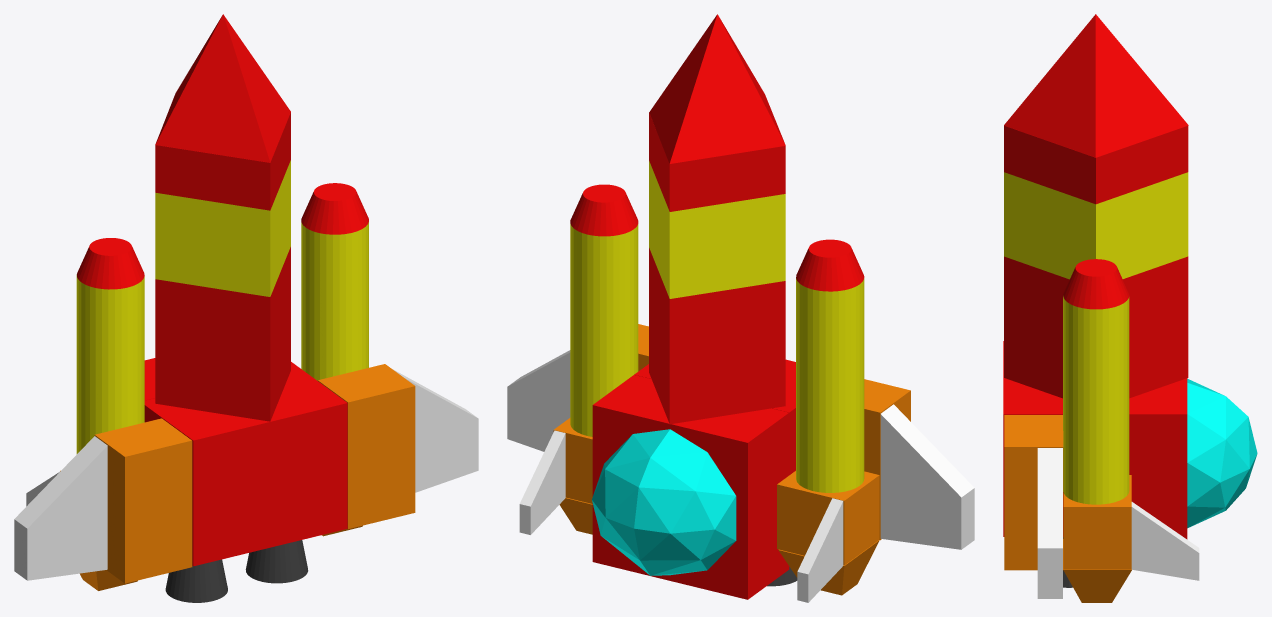
The model's file is playerShipV3.fbx.
3 renders of one model, left to right at view 1: azimuth 30°, elevation 25°; view 2: azimuth 150°, elevation 25°; view 3: azimuth 270°, elevation 25°, orthographic. The views are drawn at different scales.
Parts seen in each view (by area): view 1: Cube; view 2: Cube; view 3: Cube.
Boxes of the visible parts, x1,y1,x2,y2 form: Cube: (14, 14, 478, 602); Cube: (507, 14, 974, 602); Cube: (1003, 14, 1257, 602).
Bounding box in the file's own units: 167 × 196 × 83.32.
1 material, 1 textured.
